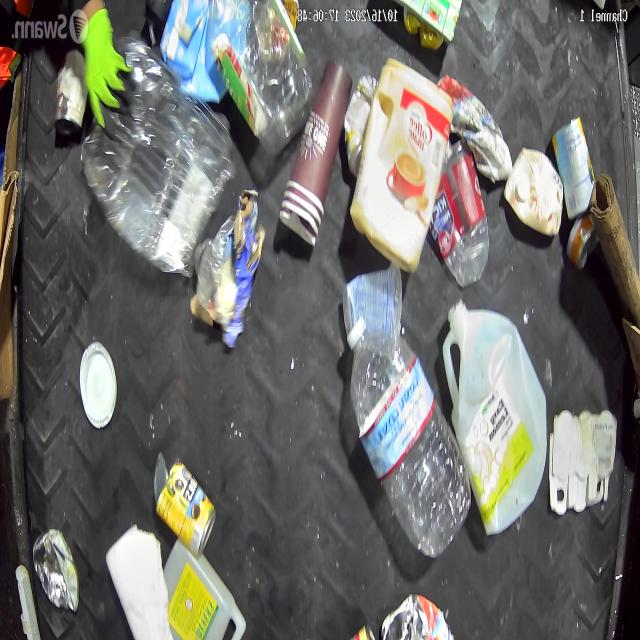can: (154, 450, 216, 558), (31, 527, 79, 612), (54, 48, 89, 136)
milk_jug: (449, 300, 552, 530)
non_white_jug: (354, 56, 462, 256), (164, 0, 243, 91), (552, 117, 597, 218)
plastic_bottle: (82, 24, 234, 279), (345, 316, 467, 548), (251, 5, 301, 149)
